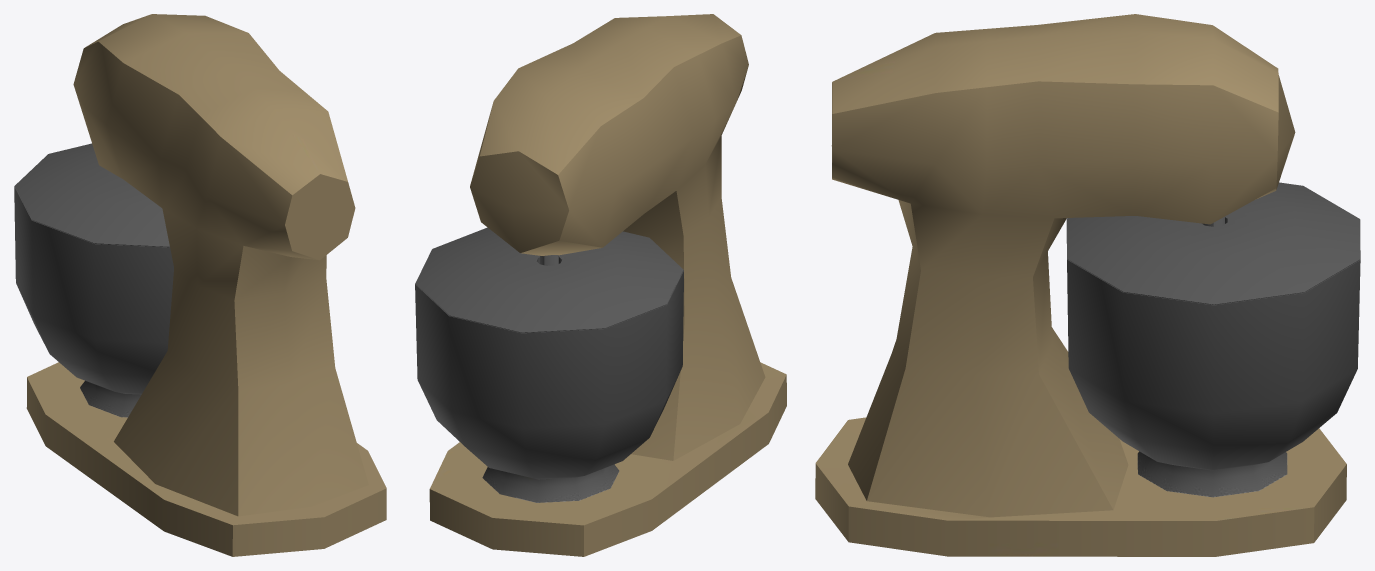
File: frl_apartment_small_appliance_01.glb
The picture shows the model from 3 angles, left to right: view 1: azimuth 30°, elevation 25°; view 2: azimuth 150°, elevation 25°; view 3: azimuth 270°, elevation 25°; orthographic projection. The views are drawn at different scales.
Visible parts, largest first — view 1: frl_apartment_small_appliance_01; view 2: frl_apartment_small_appliance_01; view 3: frl_apartment_small_appliance_01.
Boxes of the visible parts, left/top/right/bottom form: frl_apartment_small_appliance_01: left=14, top=14, right=386, bottom=556; frl_apartment_small_appliance_01: left=415, top=14, right=786, bottom=556; frl_apartment_small_appliance_01: left=815, top=14, right=1360, bottom=556.
Bounding box in the file's own units: 0.213 × 0.3576 × 0.3759.
Materials: 1 (1 with a texture image).
